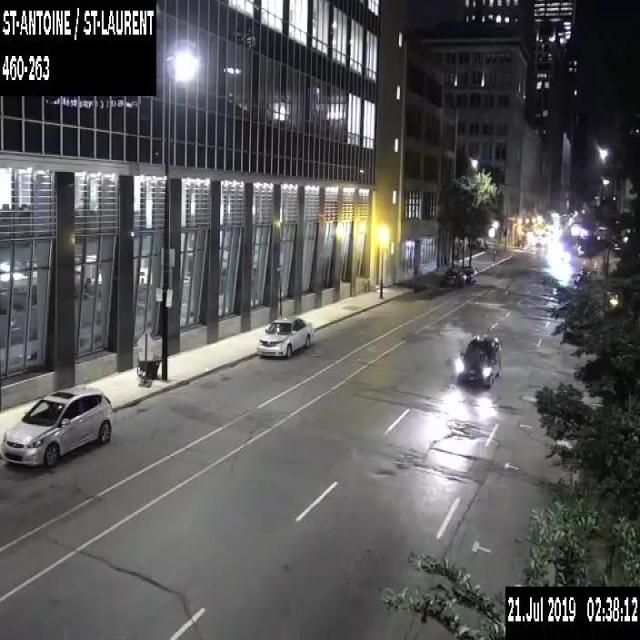construction: (136, 329, 156, 386), (581, 258, 597, 270)
vehicle: (0, 383, 114, 465), (456, 332, 502, 386), (256, 315, 314, 357), (440, 264, 466, 287), (460, 264, 478, 284)
